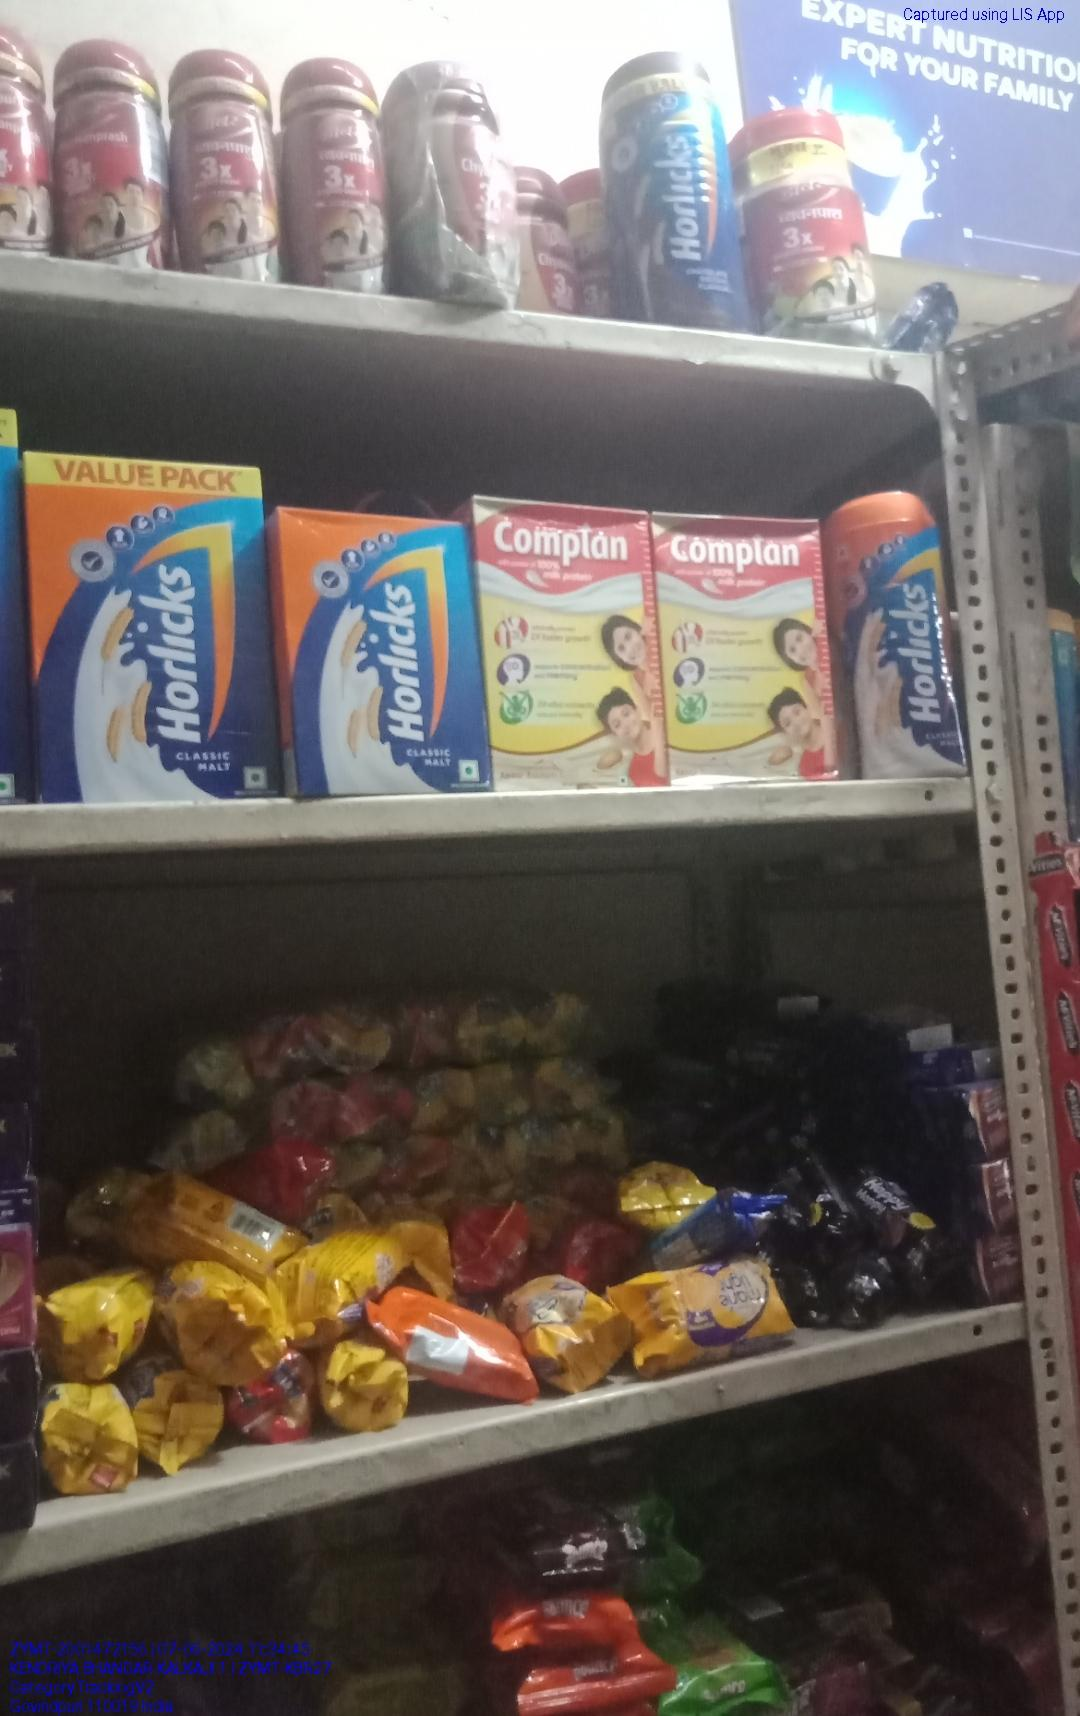HORLICK_CLASSIC_MALT_500_G_PACK: (287, 503, 483, 786), (849, 492, 963, 785)
